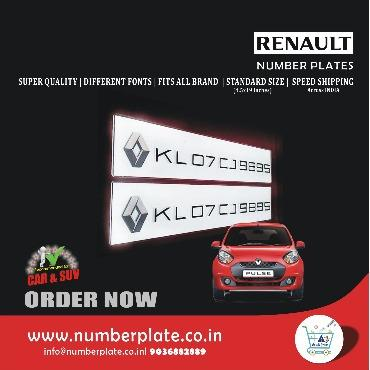number_plate: (112, 112, 273, 183), (110, 182, 276, 230)
